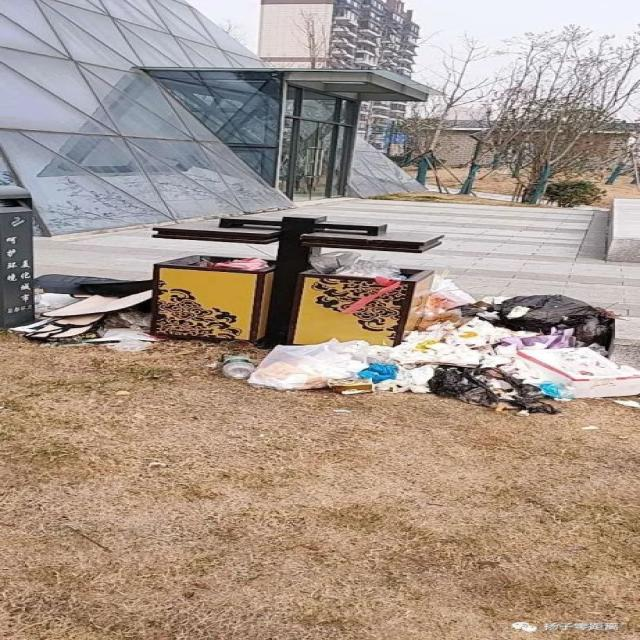garbage: (221, 275, 638, 415), (3, 274, 158, 352)
overflow: (148, 214, 442, 347)
